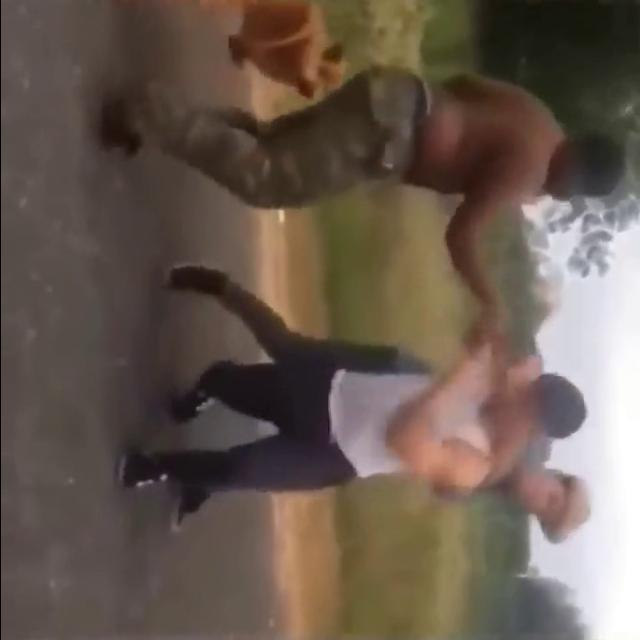Violence: (118, 330, 596, 546)
